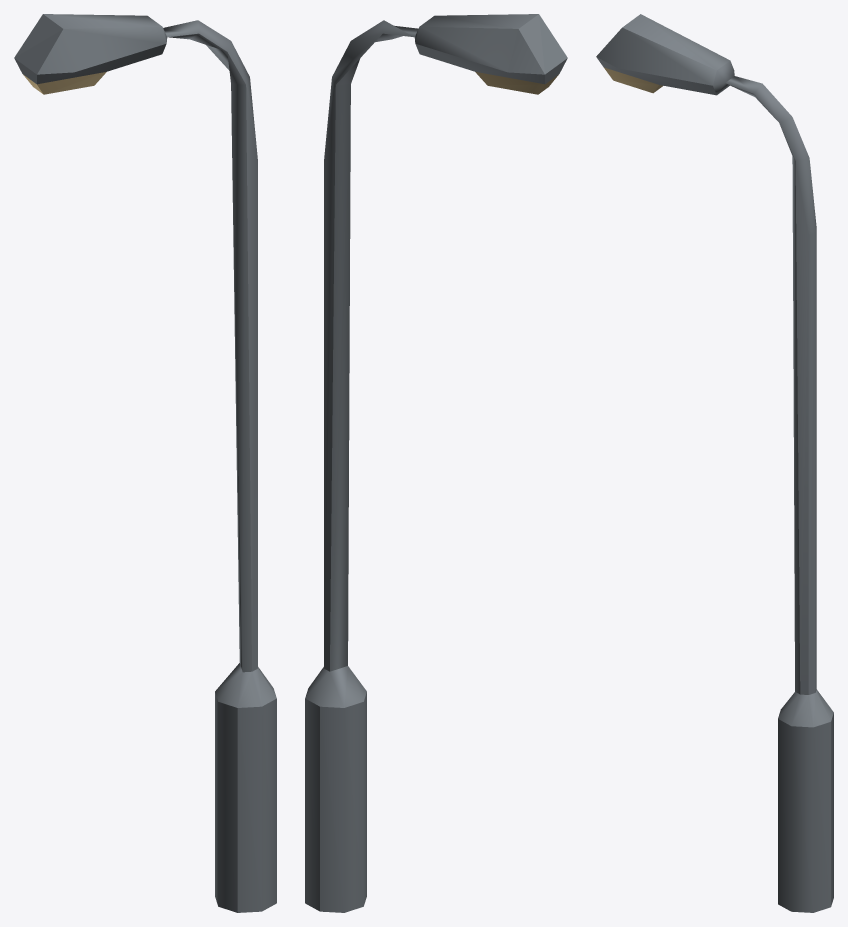
Rendered from streetlight.low.39353ff2.glb.
3 views of the same model, side by side, from view 1: azimuth 30°, elevation 25°; view 2: azimuth 150°, elevation 25°; view 3: azimuth 330°, elevation 25° (orthographic). The views are drawn at different scales.
Parts seen in each view (by area): view 1: streetlight; view 2: streetlight; view 3: streetlight.
Part boxes in pixels (bbox=[...]): streetlight: bbox=[14, 14, 276, 912]; streetlight: bbox=[305, 14, 567, 912]; streetlight: bbox=[596, 14, 833, 912].
Size of the model in its own units: 2.38 by 8.5 by 0.6112.
